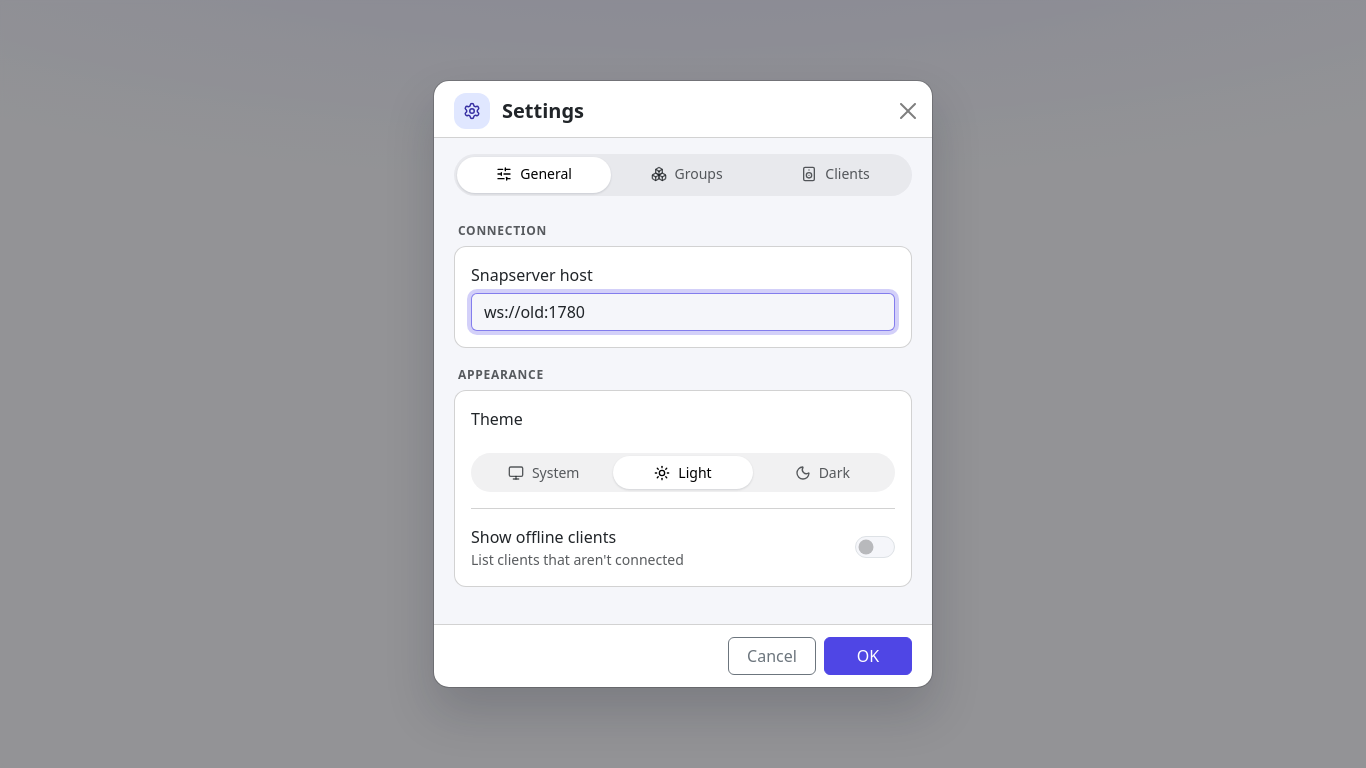
it: SettingsDialog › groups › lists every group with its stream and clients
Step 1. Click the tab "Groups" → {"x": 687, "y": 175}, box [611,157,762,192]
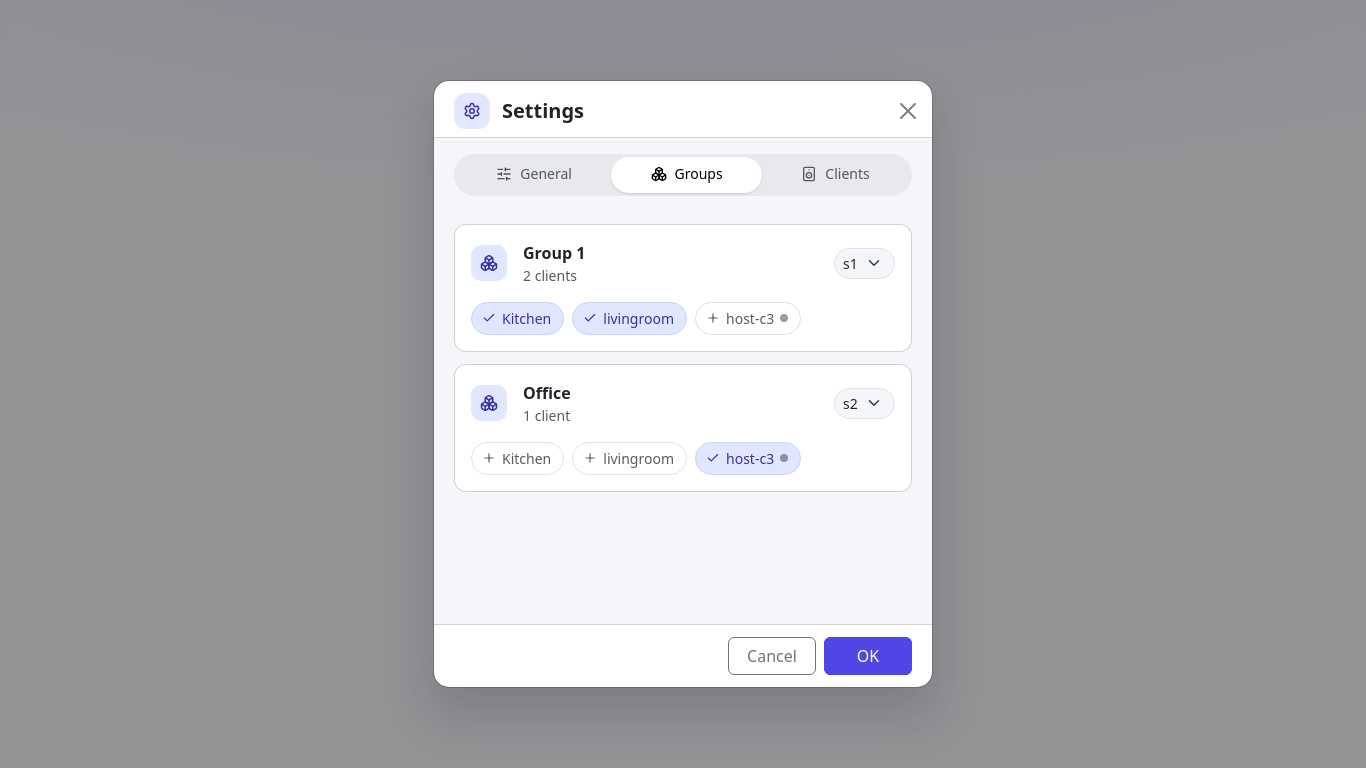
Expected: the dropdown named "Stream" in the row of "Group 1" shows "s1", [834,248,895,278]
Expected: the checkbox labelled "Kitchen" below "Group 1" is checked, [471,302,484,314]
Expected: the checkbox labelled "livingroom" below "Group 1" is checked, [471,302,484,314]
